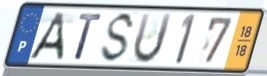1: (174, 13, 198, 67)
7: (203, 16, 233, 66)
A: (26, 10, 67, 62)
S: (98, 10, 138, 66)
T: (73, 12, 105, 62)
U: (131, 12, 174, 66)
